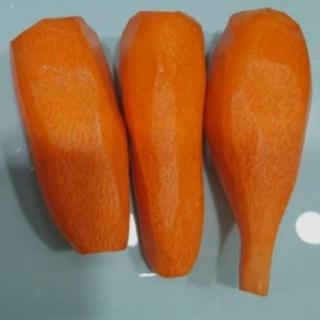carrot: (204, 4, 318, 314), (11, 11, 129, 257), (115, 10, 208, 284)
